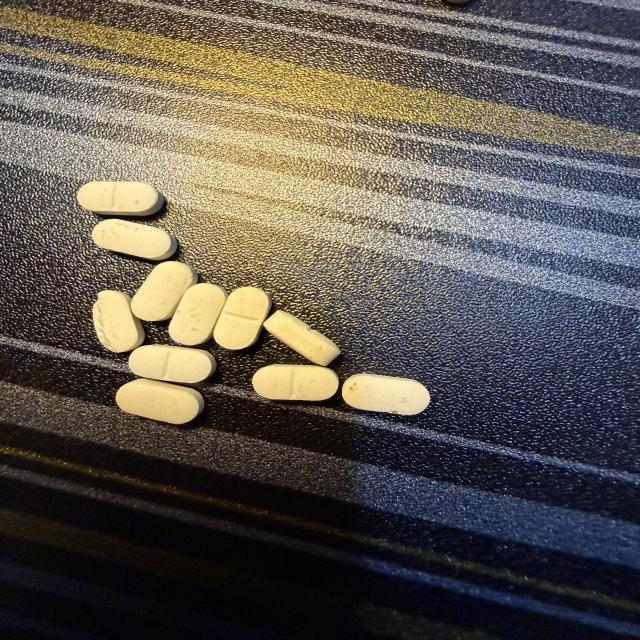pill: (264, 311, 340, 365), (116, 379, 204, 424), (132, 262, 197, 321), (169, 283, 228, 345), (214, 287, 271, 349), (92, 219, 177, 260), (343, 374, 430, 414), (129, 345, 216, 383), (93, 291, 144, 352), (253, 365, 338, 401), (77, 182, 163, 215)
